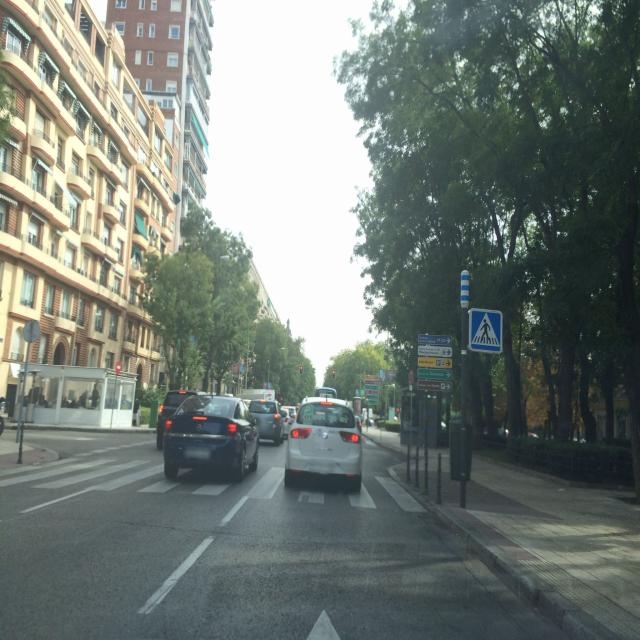forb_stopping: (408, 371, 413, 386)
